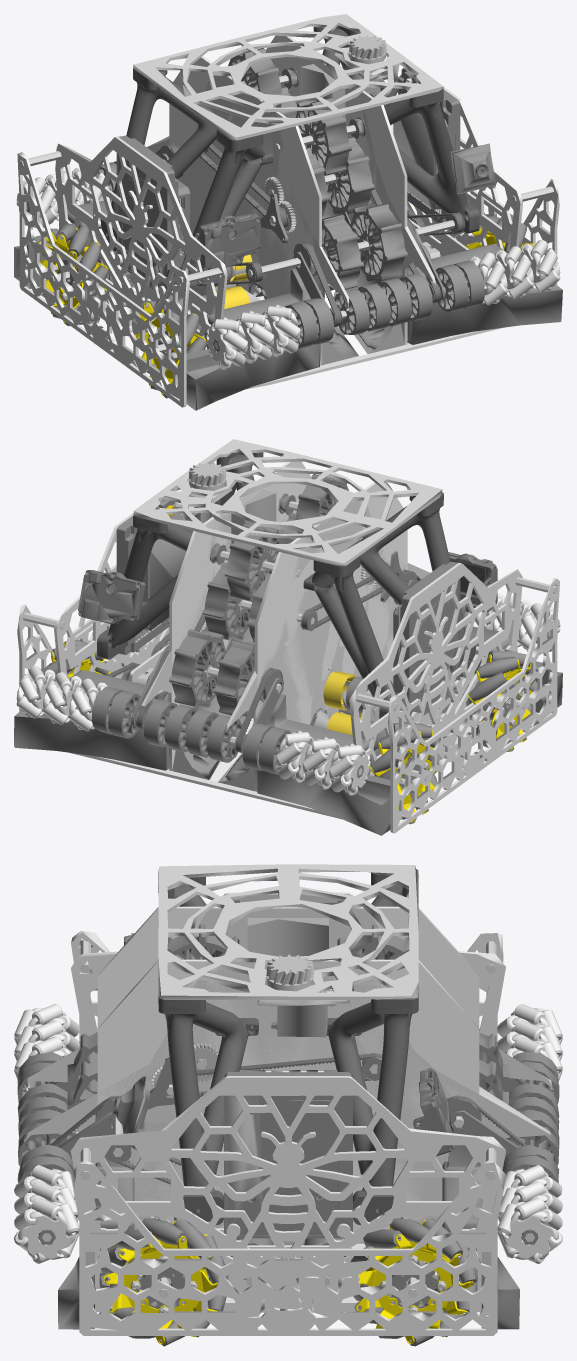
File: chassis.glb
The picture shows the model from 3 angles, top to bottom: view 1: azimuth 30°, elevation 25°; view 2: azimuth 150°, elevation 25°; view 3: azimuth 270°, elevation 25°; orthographic projection. The views are drawn at different scales.
Parts seen in each view (by area): view 1: chassis_1, chassis_7, chassis_3, chassis_0, chassis_18, chassis_4, chassis_6, chassis_5, chassis_2, chassis_9; view 2: chassis_1, chassis_7, chassis_3, chassis_18, chassis_0, chassis_4, chassis_2, chassis_6, chassis_5, chassis_9; view 3: chassis_7, chassis_1, chassis_3, chassis_18, chassis_0, chassis_4, chassis_6, chassis_9, chassis_5, chassis_2, chassis_17.
Boxes of the visible parts, bbox=[...] form: chassis_1: bbox=[14, 48, 562, 410]; chassis_7: bbox=[17, 47, 559, 407]; chassis_3: bbox=[19, 14, 553, 365]; chassis_0: bbox=[100, 25, 479, 298]; chassis_18: bbox=[169, 35, 407, 359]; chassis_4: bbox=[16, 167, 560, 370]; chassis_6: bbox=[37, 35, 534, 395]; chassis_5: bbox=[99, 144, 470, 337]; chassis_2: bbox=[194, 78, 446, 318]; chassis_9: bbox=[173, 64, 441, 235]; chassis_1: bbox=[14, 474, 562, 835]; chassis_7: bbox=[17, 488, 559, 833]; chassis_3: bbox=[22, 439, 557, 791]; chassis_18: bbox=[169, 461, 407, 781]; chassis_0: bbox=[97, 452, 476, 718]; chassis_4: bbox=[16, 594, 560, 796]; chassis_2: bbox=[78, 552, 497, 744]; chassis_6: bbox=[51, 462, 535, 822]; chassis_5: bbox=[106, 570, 478, 776]; chassis_9: bbox=[135, 490, 332, 642]; chassis_7: bbox=[70, 892, 506, 1335]; chassis_1: bbox=[17, 894, 559, 1346]; chassis_3: bbox=[24, 864, 552, 1297]; chassis_18: bbox=[97, 906, 479, 1232]; chassis_0: bbox=[158, 869, 418, 1225]; chassis_4: bbox=[14, 1004, 562, 1263]; chassis_6: bbox=[103, 954, 473, 1344]; chassis_9: bbox=[247, 918, 328, 1072]; chassis_5: bbox=[50, 948, 526, 1291]; chassis_2: bbox=[43, 933, 530, 1156]; chassis_17: bbox=[270, 983, 336, 1037].
Bounding box in the file's own units: 0.4402 × 0.291 × 0.4387.
